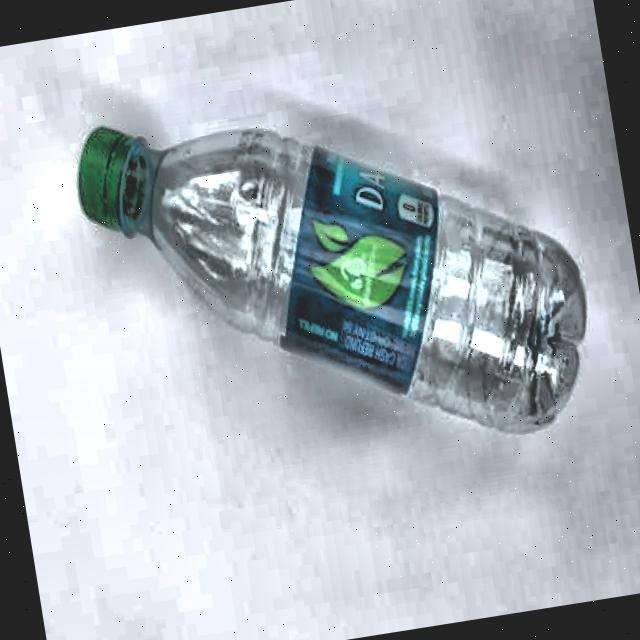plastic: (62, 47, 606, 496)
